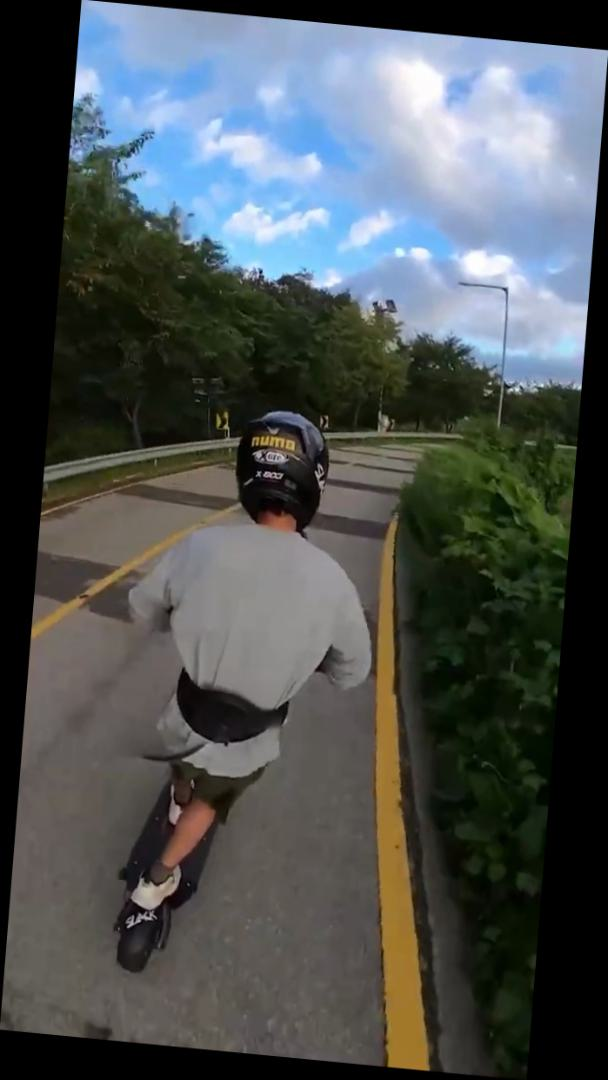helmet: (93, 392, 396, 999)
